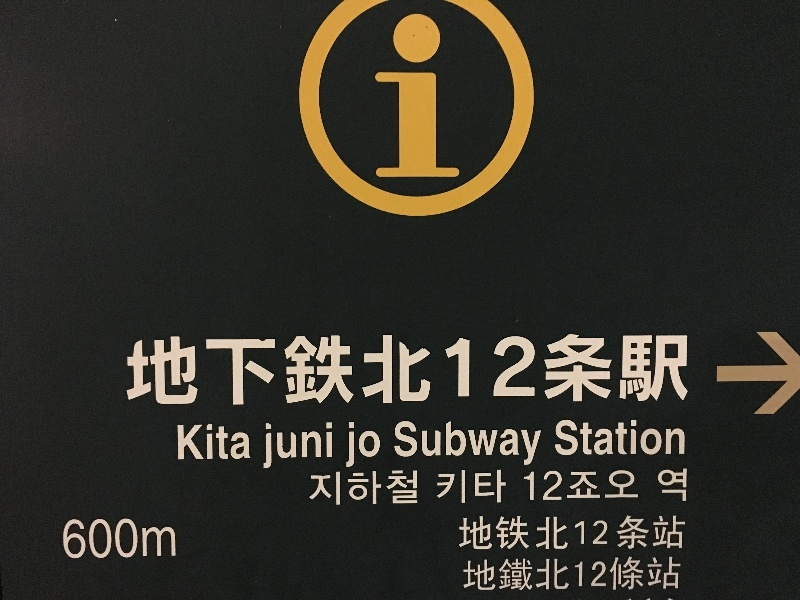text: (385, 14, 400, 181), (401, 14, 416, 181), (417, 14, 432, 181), (433, 14, 448, 181), (449, 14, 460, 181), (374, 14, 384, 181), (129, 333, 144, 406), (145, 333, 160, 406), (161, 333, 176, 406), (177, 333, 192, 406), (193, 333, 208, 406), (209, 333, 224, 406), (225, 333, 240, 406), (241, 333, 256, 406), (257, 333, 272, 406), (273, 333, 288, 406), (289, 333, 304, 406), (305, 333, 320, 406), (321, 333, 336, 406), (337, 333, 352, 406), (353, 333, 368, 406), (369, 333, 384, 406), (385, 333, 400, 406), (401, 333, 416, 406), (417, 333, 432, 406), (433, 333, 448, 406), (449, 333, 464, 406), (465, 333, 480, 406), (481, 333, 496, 406), (497, 333, 512, 406), (513, 333, 528, 406), (529, 333, 544, 406), (545, 333, 560, 406), (561, 333, 576, 406), (577, 333, 592, 406), (593, 333, 608, 406), (609, 333, 624, 406), (625, 333, 640, 406), (641, 333, 656, 406), (657, 333, 672, 406), (673, 333, 688, 406), (273, 421, 288, 472), (289, 421, 304, 472), (305, 421, 320, 472), (353, 421, 368, 469), (401, 421, 416, 468), (417, 421, 432, 468), (433, 421, 448, 468), (449, 421, 464, 468), (465, 421, 480, 468), (481, 421, 496, 468), (497, 421, 512, 468), (513, 421, 528, 468), (65, 518, 80, 564), (81, 518, 96, 564), (97, 518, 112, 564), (113, 518, 128, 564), (129, 518, 144, 564), (145, 518, 160, 564), (161, 518, 176, 564), (321, 421, 334, 472), (561, 418, 576, 460), (577, 418, 592, 460), (593, 418, 608, 460), (609, 418, 624, 460), (625, 418, 640, 460), (641, 418, 656, 460), (657, 418, 672, 460), (673, 418, 688, 460), (321, 469, 336, 511), (337, 469, 352, 511), (353, 469, 368, 511), (369, 469, 384, 511), (385, 469, 400, 511), (401, 469, 416, 511), (529, 421, 542, 468), (673, 467, 689, 505), (177, 422, 192, 462), (193, 422, 208, 462), (209, 422, 224, 462), (225, 422, 240, 462), (449, 469, 464, 508), (465, 469, 480, 508), (481, 469, 496, 508), (369, 421, 381, 469), (657, 467, 672, 505), (465, 515, 480, 553), (481, 515, 496, 553), (497, 515, 512, 553), (513, 515, 528, 553), (529, 515, 544, 553), (545, 515, 560, 553), (561, 515, 576, 553), (577, 515, 592, 553), (593, 515, 608, 553), (609, 515, 624, 553), (625, 515, 640, 553), (641, 515, 656, 553), (657, 515, 672, 553), (465, 558, 480, 594), (481, 558, 496, 594), (497, 558, 512, 594), (513, 558, 528, 594), (529, 558, 544, 594), (545, 558, 560, 594), (561, 558, 576, 594), (577, 558, 592, 594), (593, 558, 608, 594), (609, 558, 624, 594), (625, 558, 640, 594), (641, 558, 656, 594), (657, 558, 672, 594), (673, 515, 687, 553), (529, 469, 544, 503), (545, 469, 560, 503), (561, 469, 576, 503), (577, 469, 592, 503), (593, 469, 608, 503), (609, 469, 624, 503), (625, 469, 640, 503), (308, 469, 320, 511), (436, 469, 448, 508), (263, 421, 272, 472), (241, 422, 252, 462), (497, 469, 507, 508), (392, 421, 400, 468), (673, 558, 683, 594), (345, 421, 352, 469), (458, 515, 464, 553), (555, 418, 560, 460), (126, 333, 128, 406), (689, 333, 691, 406), (61, 518, 64, 564), (417, 469, 420, 511), (525, 469, 528, 503), (462, 558, 464, 594), (177, 518, 178, 564)
